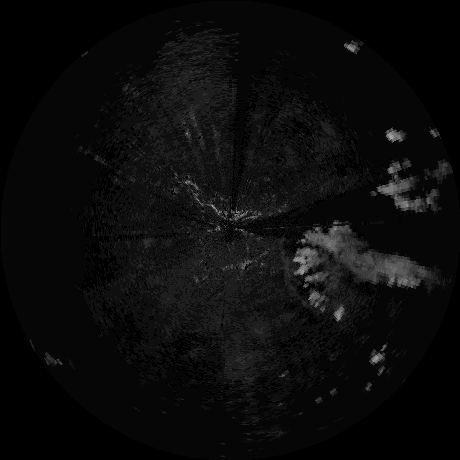frontgust: (275, 239, 309, 304)
